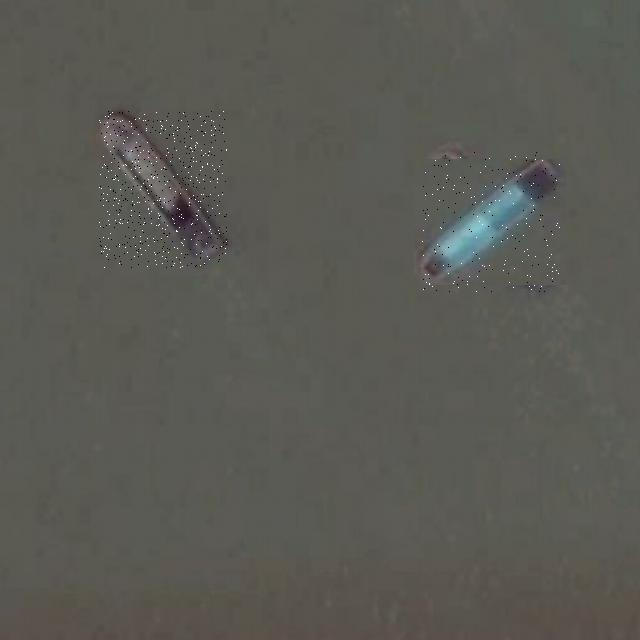boat: (100, 111, 228, 268), (421, 152, 560, 292)
